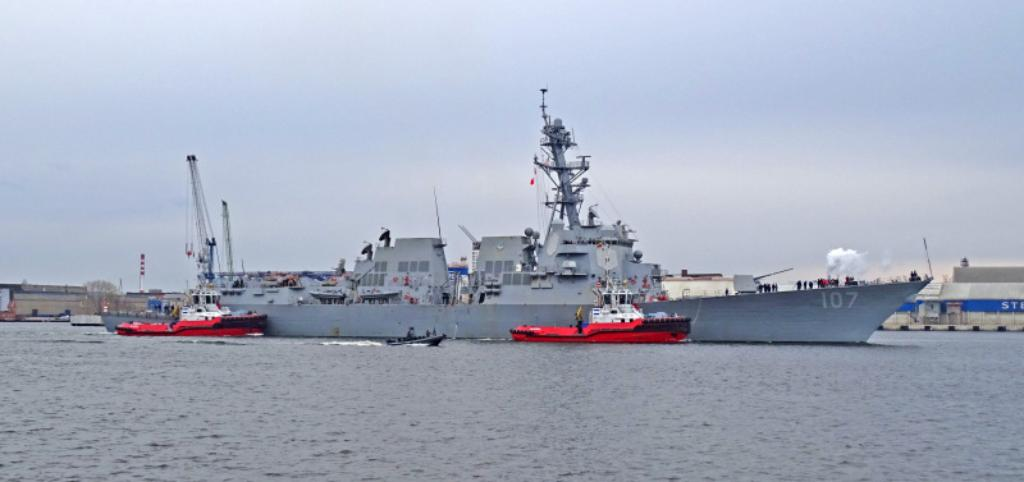Warship: (95, 86, 935, 346)
